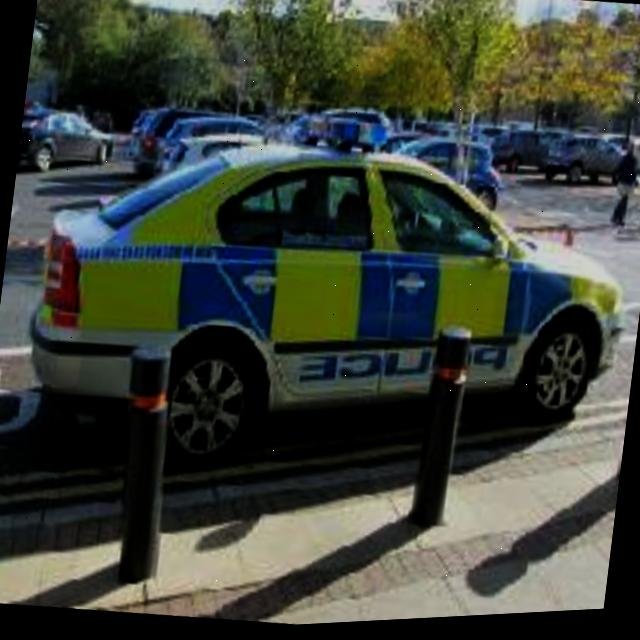emergency: (8, 74, 630, 489)
